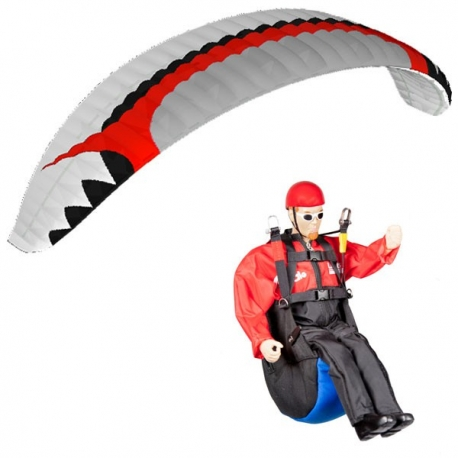Paraglider: (1, 6, 450, 188)
